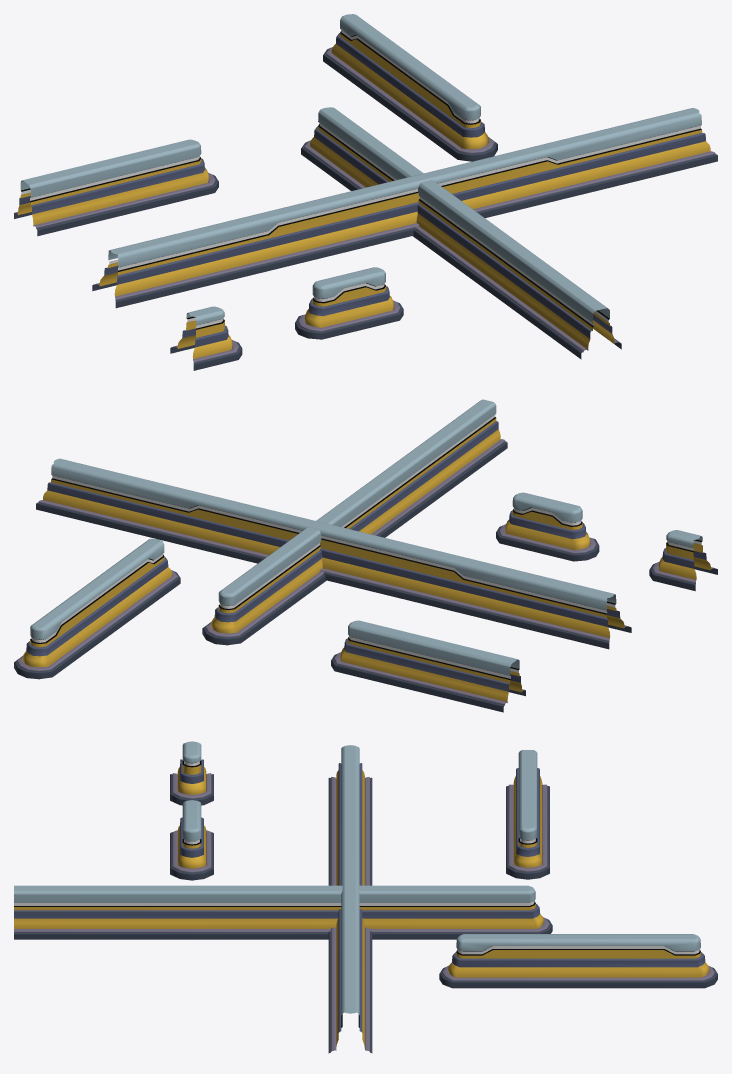
File: SmallWalls.fbx
3 views of the same model, one above another, from view 1: azimuth 30°, elevation 25°; view 2: azimuth 150°, elevation 25°; view 3: azimuth 270°, elevation 25° (orthographic). The views are drawn at different scales.
Parts seen in each view (by area): view 1: Small_wall1, Small_wall6, Small_wall2, Small_wall5, Small_wall4, Small_wall3; view 2: Small_wall1, Small_wall6, Small_wall2, Small_wall5, Small_wall4, Small_wall3; view 3: Small_wall6, Small_wall5, Small_wall1, Small_wall2, Small_wall4, Small_wall3.
Boxes of the visible parts, x1=… form: Small_wall1: x1=92, y1=108, x2=717, y2=308; Small_wall6: x1=301, y1=107, x2=621, y2=359; Small_wall2: x1=14, y1=139, x2=218, y2=236; Small_wall5: x1=323, y1=14, x2=497, y2=161; Small_wall4: x1=295, y1=267, x2=403, y2=339; Small_wall3: x1=170, y1=306, x2=242, y2=370; Small_wall1: x1=36, y1=458, x2=631, y2=649; Small_wall6: x1=202, y1=399, x2=507, y2=645; Small_wall2: x1=331, y1=620, x2=525, y2=712; Small_wall5: x1=14, y1=538, x2=180, y2=679; Small_wall4: x1=496, y1=492, x2=599, y2=561; Small_wall3: x1=649, y1=530, x2=717, y2=591; Small_wall6: x1=14, y1=885, x2=552, y2=939; Small_wall5: x1=439, y1=934, x2=717, y2=988; Small_wall1: x1=328, y1=745, x2=372, y2=1053; Small_wall2: x1=506, y1=750, x2=549, y2=879; Small_wall4: x1=170, y1=800, x2=213, y2=880; Small_wall3: x1=170, y1=741, x2=213, y2=805.
Size of the model in its own units: 5172 by 387 by 5521.
